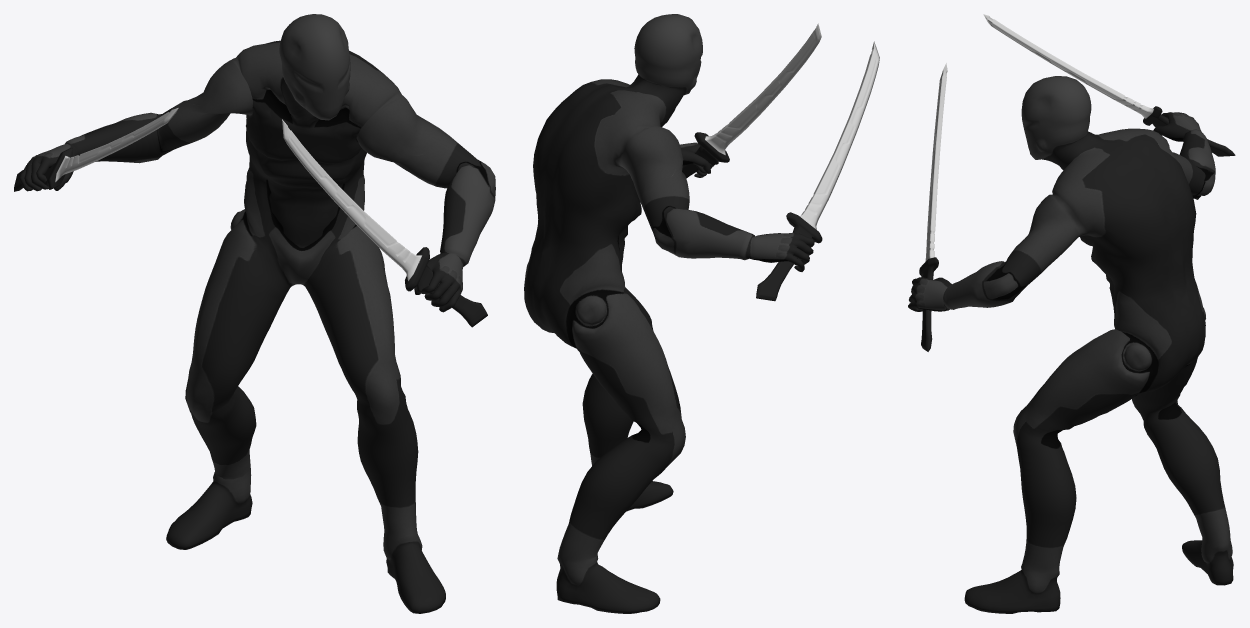
The picture shows the model from 3 angles, left to right: view 1: azimuth 30°, elevation 25°; view 2: azimuth 150°, elevation 25°; view 3: azimuth 270°, elevation 25°; orthographic projection. The views are drawn at different scales.
Visible parts, largest first — view 1: Cyborg_Ninja_Killer, Sword_l, Sword_l001; view 2: Cyborg_Ninja_Killer, Sword_l001, Sword_l; view 3: Cyborg_Ninja_Killer, Sword_l001, Sword_l.
Part boxes in pixels (bbox=[...]): Cyborg_Ninja_Killer: bbox=[19, 14, 495, 613]; Sword_l: bbox=[282, 119, 487, 327]; Sword_l001: bbox=[14, 107, 178, 191]; Cyborg_Ninja_Killer: bbox=[524, 14, 814, 613]; Sword_l001: bbox=[756, 41, 879, 301]; Sword_l: bbox=[682, 23, 821, 178]; Cyborg_Ninja_Killer: bbox=[908, 76, 1233, 613]; Sword_l001: bbox=[983, 14, 1235, 156]; Sword_l: bbox=[919, 63, 947, 351].
Size of the model in its own units: 110 by 162 by 97.02.
2 materials, 2 textured.
